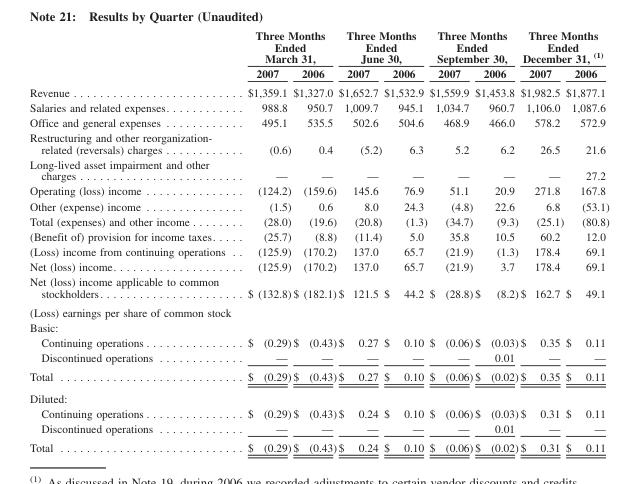table: (29, 28, 608, 453)
table column: (29, 28, 235, 453), (235, 28, 291, 453), (336, 28, 382, 453), (427, 28, 473, 453), (518, 28, 564, 453), (291, 28, 336, 453), (382, 28, 427, 453), (473, 28, 518, 453), (564, 28, 608, 453)
table column header: (29, 28, 608, 82)
table projected row header: (29, 386, 608, 405), (29, 302, 608, 319), (29, 319, 608, 334)
table row: (29, 28, 608, 65), (29, 273, 608, 302), (29, 156, 608, 183), (29, 130, 608, 156), (29, 366, 608, 386), (29, 386, 608, 405), (29, 65, 608, 82), (29, 82, 608, 99), (29, 302, 608, 319), (29, 349, 608, 366), (29, 420, 608, 437), (29, 114, 608, 130), (29, 437, 608, 453), (29, 99, 608, 114), (29, 183, 608, 198), (29, 198, 608, 213), (29, 213, 608, 228), (29, 228, 608, 243), (29, 243, 608, 258), (29, 258, 608, 273), (29, 319, 608, 334), (29, 334, 608, 349), (29, 405, 608, 420)
table spanning cell: (235, 28, 336, 65), (336, 28, 427, 65), (427, 28, 518, 65), (518, 28, 608, 65)
